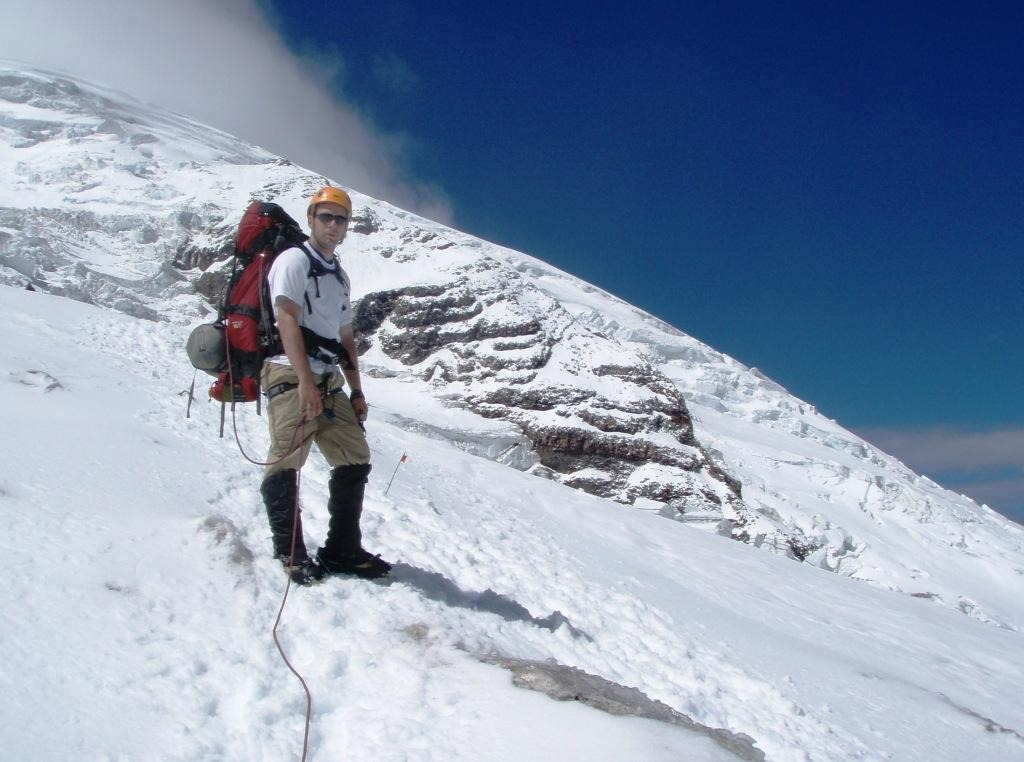helmet: (302, 183, 356, 223)
